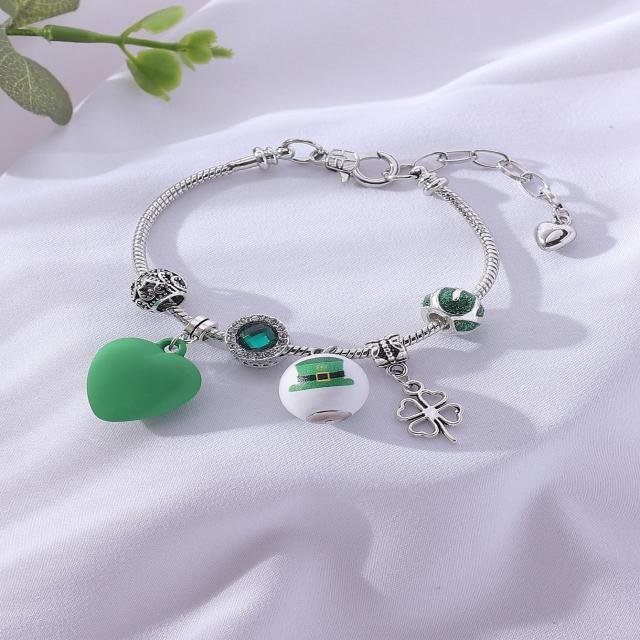bracelet: (22, 85, 640, 511)
